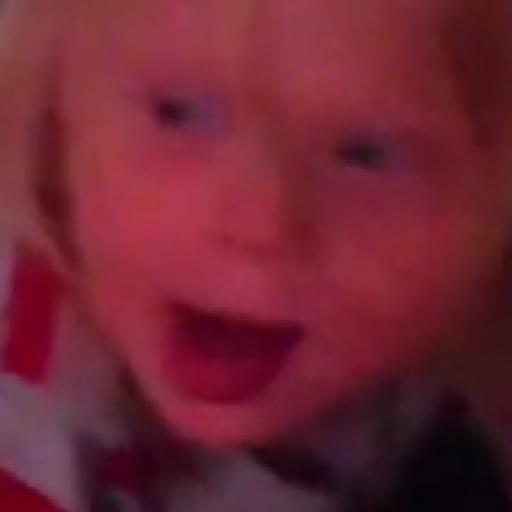Autism: (71, 16, 505, 426)
